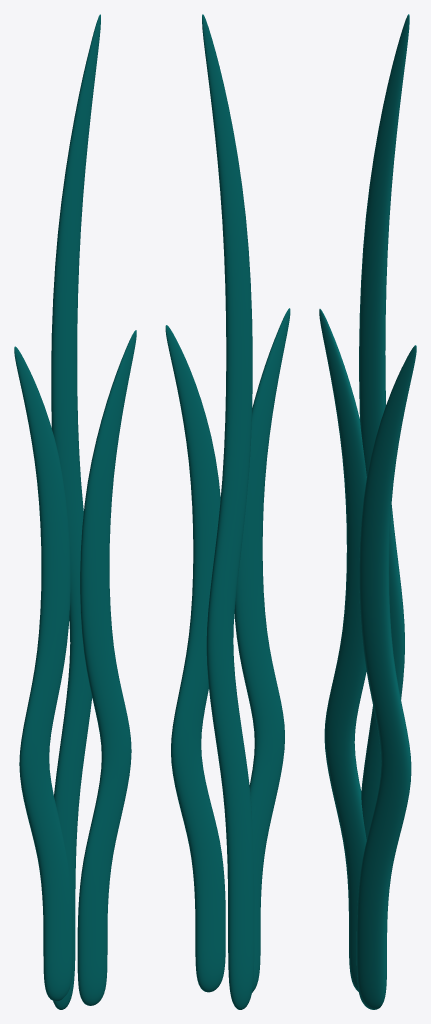
Rendered from SEAWEED.fbx.
3 views of the same model, side by side, from view 1: azimuth 30°, elevation 25°; view 2: azimuth 210°, elevation 25°; view 3: azimuth 330°, elevation 25° (orthographic).
Visible parts, largest first — view 1: Cube; view 2: Cube; view 3: Cube.
Part boxes in pixels (<box>): Cube: <box>14,14,136,1009</box>; Cube: <box>165,14,290,1009</box>; Cube: <box>319,14,416,1009</box>.
Size of the model in its own units: 286 by 2462 by 93.03.
